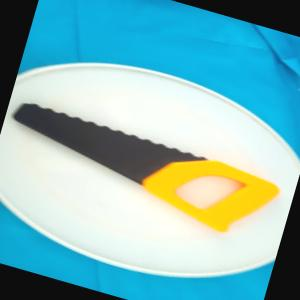serrote: (0, 96, 284, 244)
